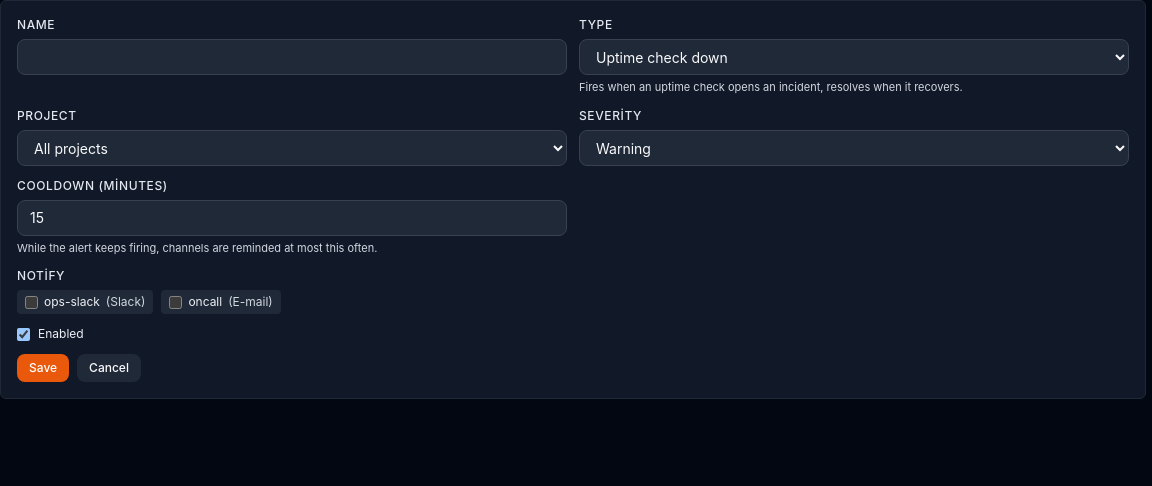
Test: AlertRuleEditor › switching the type resets the parameters to that type's defaults
Select "Error rate" in the dropdown with test id "rule-type" at (854, 57), box [579,39,1129,75]
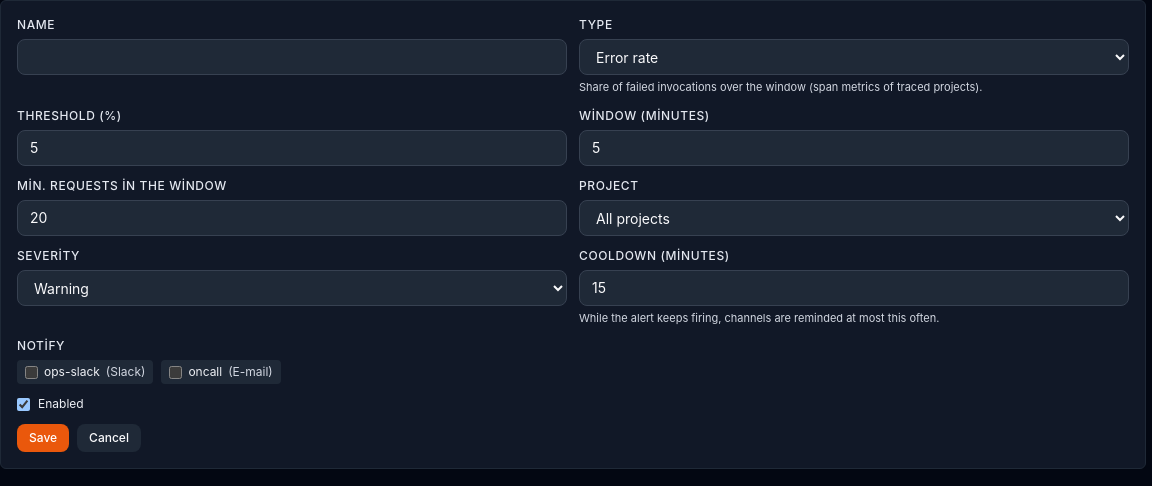
Replace the text in the number field with test id "param-threshold" with "9" at (292, 148), box [17,130,567,166]
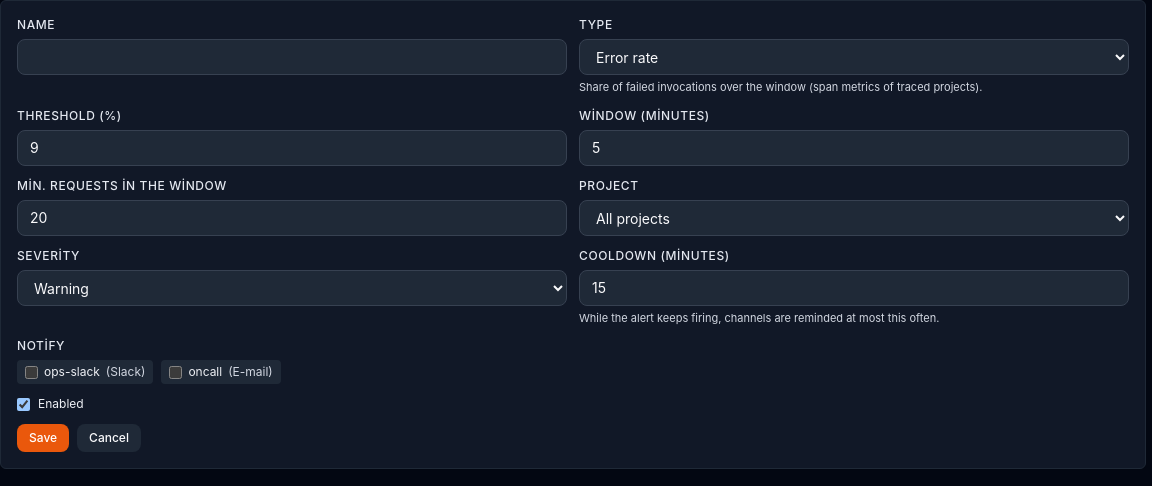
Select "Cold-start rate" in the dropdown with test id "rule-type" at (854, 57), box [579,39,1129,75]
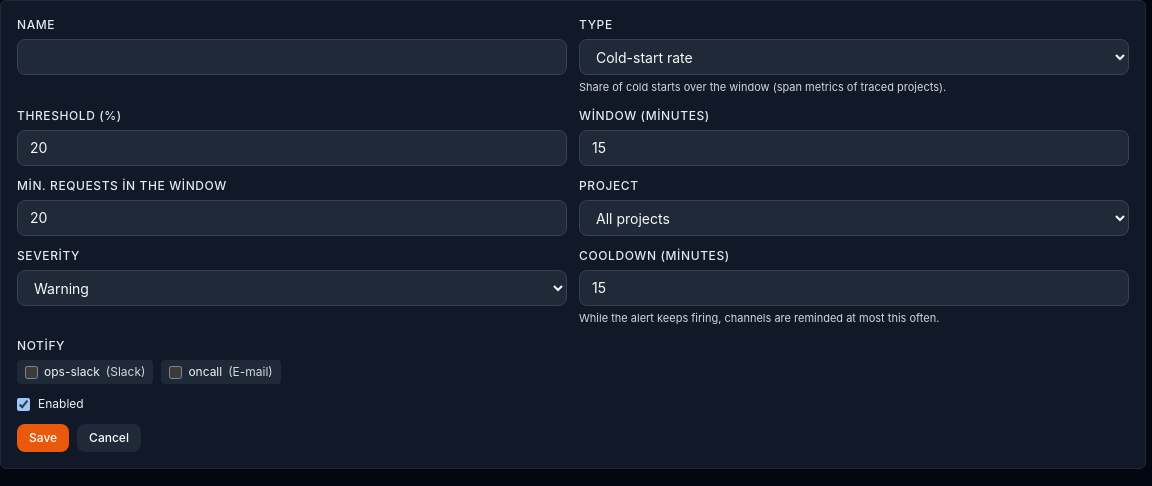
Result: the number field with test id "param-threshold" holds "20" at [17,130,567,166]
